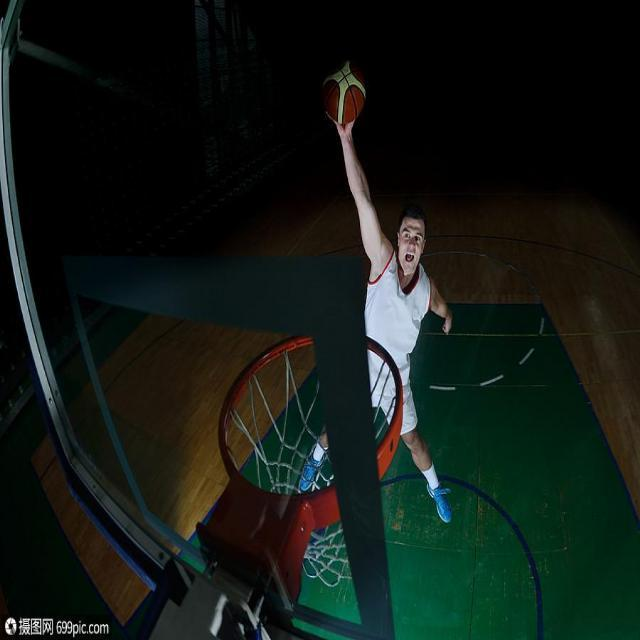rim: (321, 59, 369, 124)
